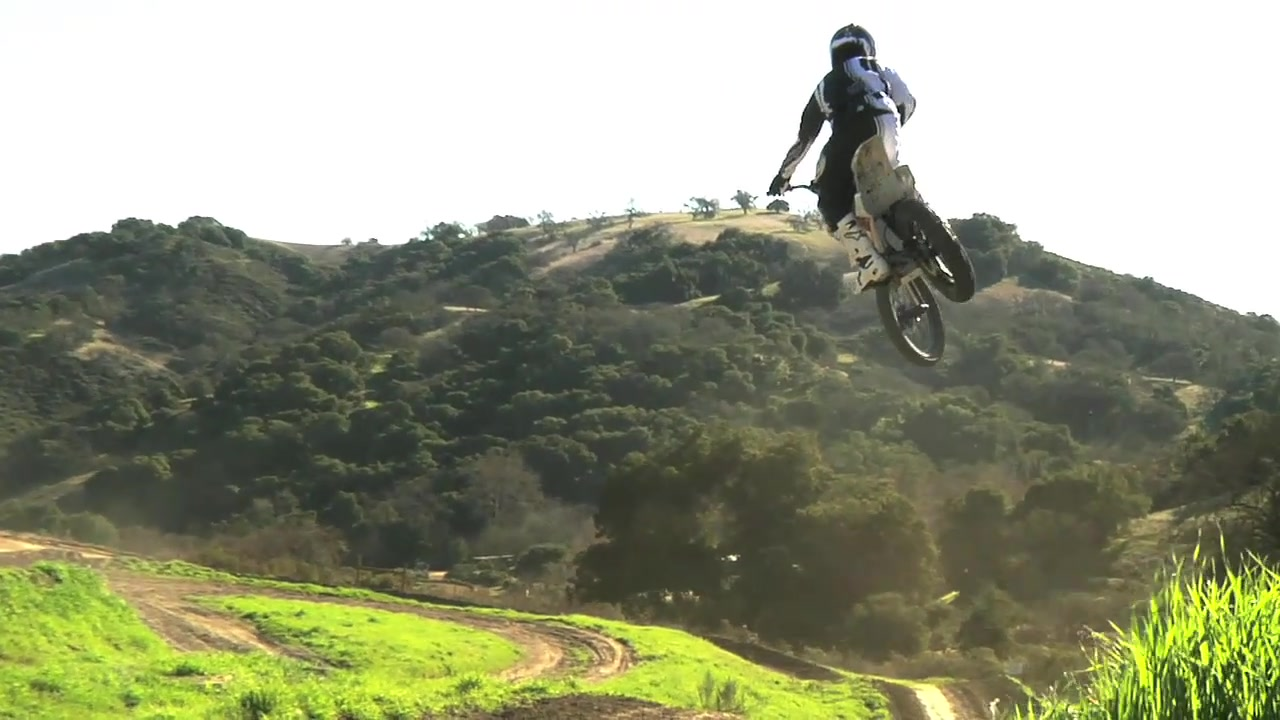motorbike: (766, 123, 980, 372)
